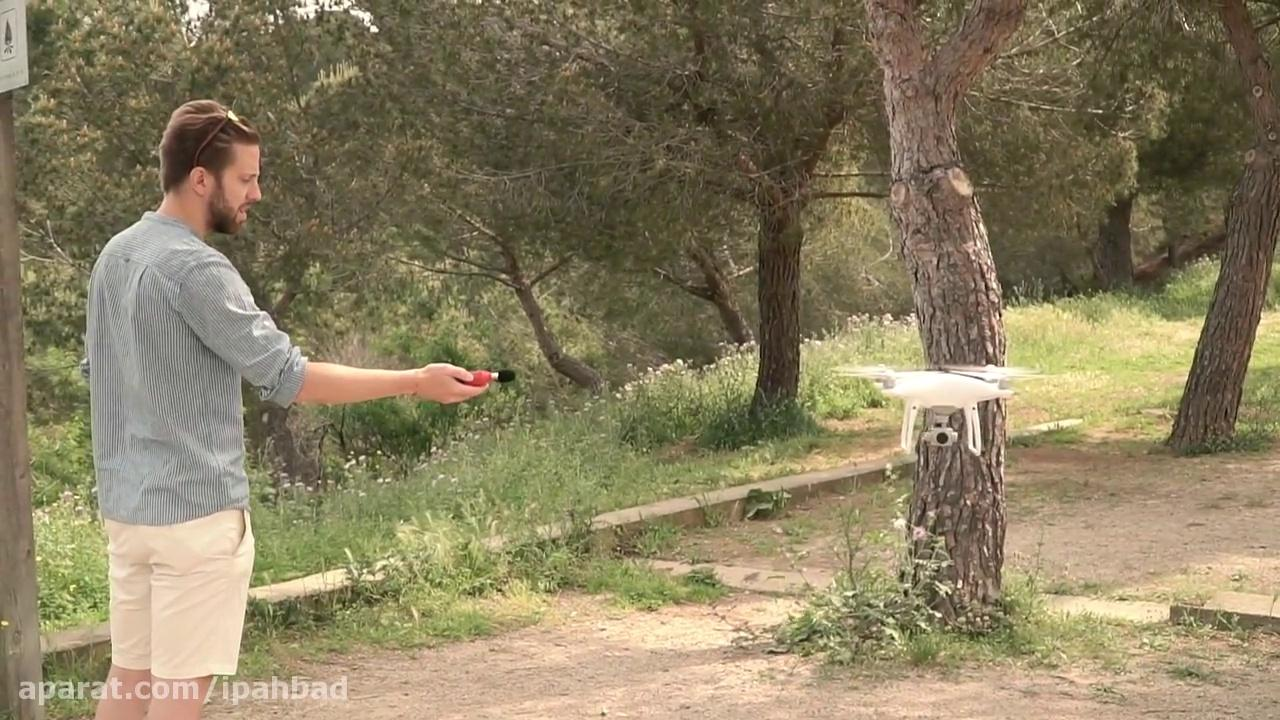drone: (827, 362, 1052, 451)
